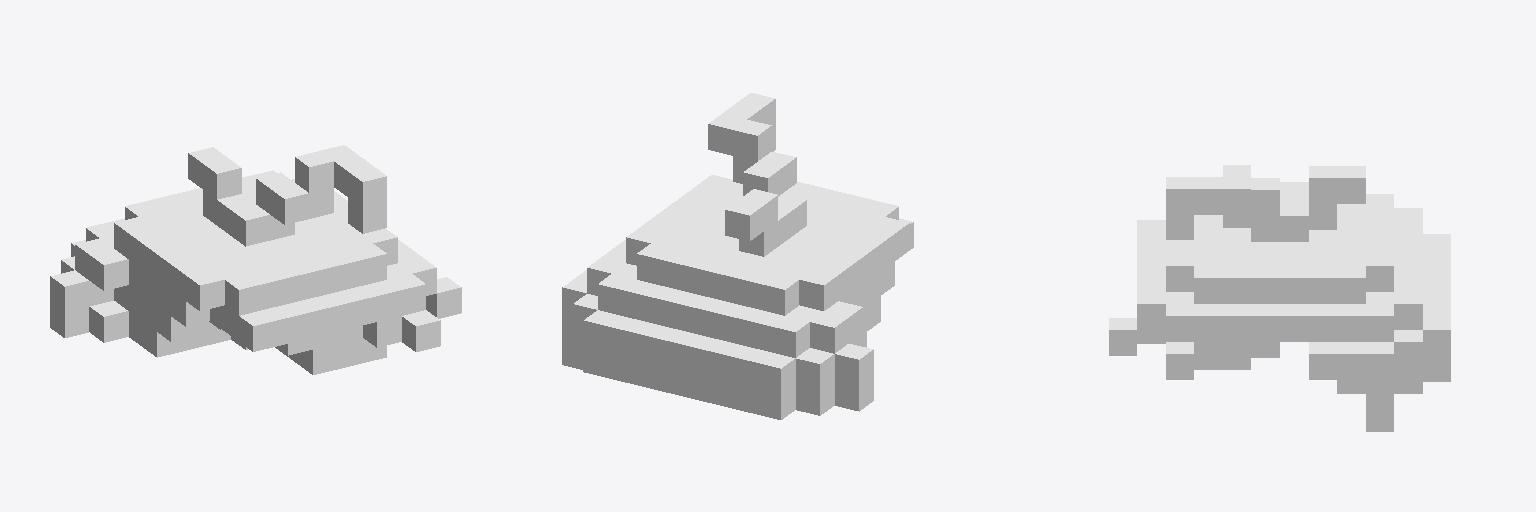
File: Pumpkin-(Bits)-3.obj
The picture shows the model from 3 angles: view 1: azimuth 30°, elevation 25°; view 2: azimuth 150°, elevation 25°; view 3: azimuth 270°, elevation 25°; orthographic projection.
Visible parts, largest first — view 1: object 1; view 2: object 1; view 3: object 1.
Part boxes in pixels (x1,y1,x2,y2): object 1: (50,145,461,374); object 1: (562,93,913,419); object 1: (1109,165,1450,431).
Size of the model in its own units: 1.2 by 0.8 by 1.2.